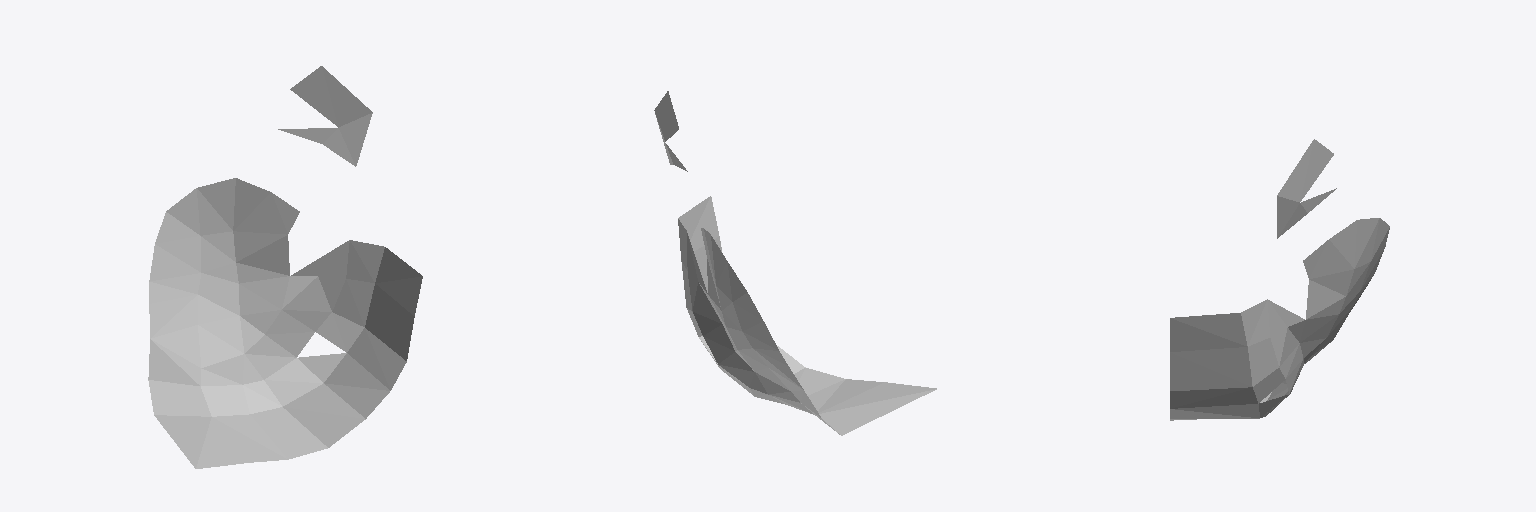
The model's file is cow1.obj.
3 views of the same model, side by side, from view 1: azimuth 30°, elevation 25°; view 2: azimuth 150°, elevation 25°; view 3: azimuth 270°, elevation 25° (orthographic).
Bounding box in the file's own units: 0.099 × 0.1294 × 0.0819.